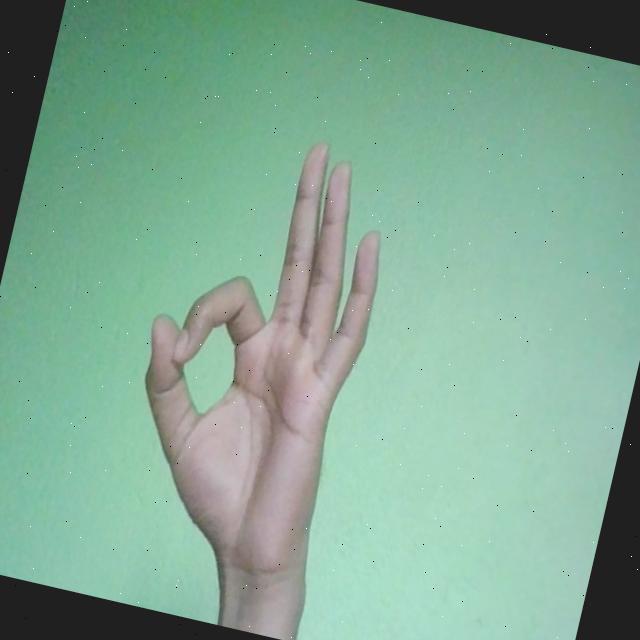Rock On: (100, 111, 407, 598)
